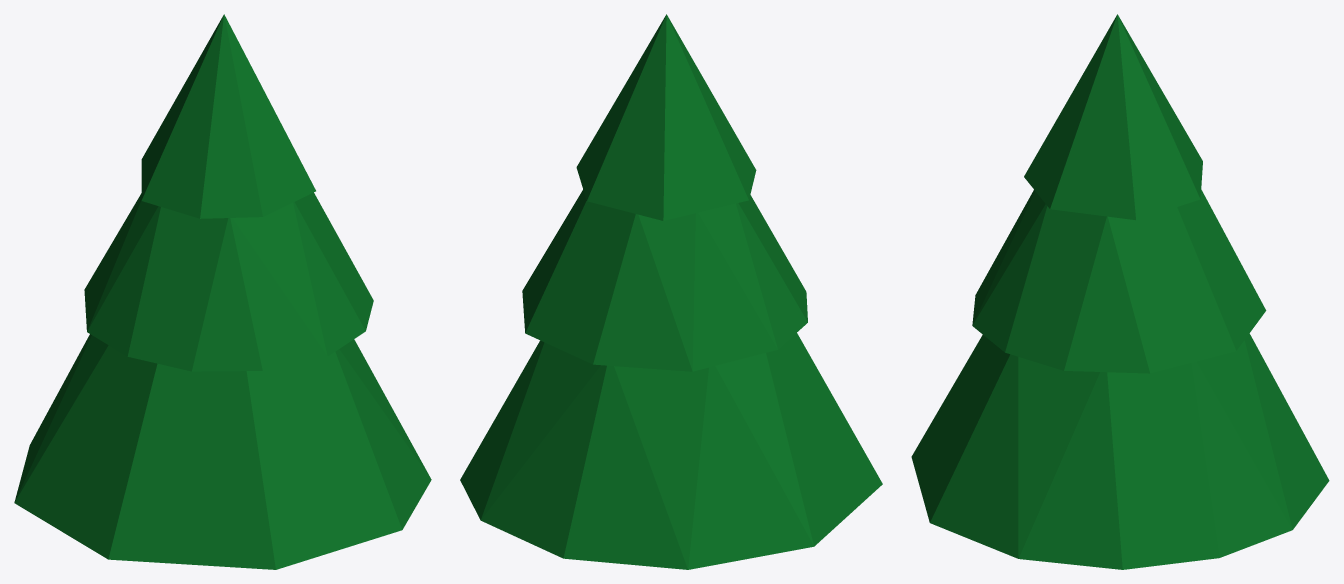
The model's file is tree.FBX.
3 views of the same model, side by side, from view 1: azimuth 30°, elevation 25°; view 2: azimuth 150°, elevation 25°; view 3: azimuth 270°, elevation 25° (orthographic).
Visible parts, largest first — view 1: bush1; view 2: bush1; view 3: bush1.
Boxes of the visible parts, box(x1,y1,x2,y2) form: bush1: box(14, 14, 431, 569); bush1: box(460, 14, 882, 569); bush1: box(911, 14, 1329, 569).
Bounding box in the file's own units: 35.5 × 44.18 × 35.77.
